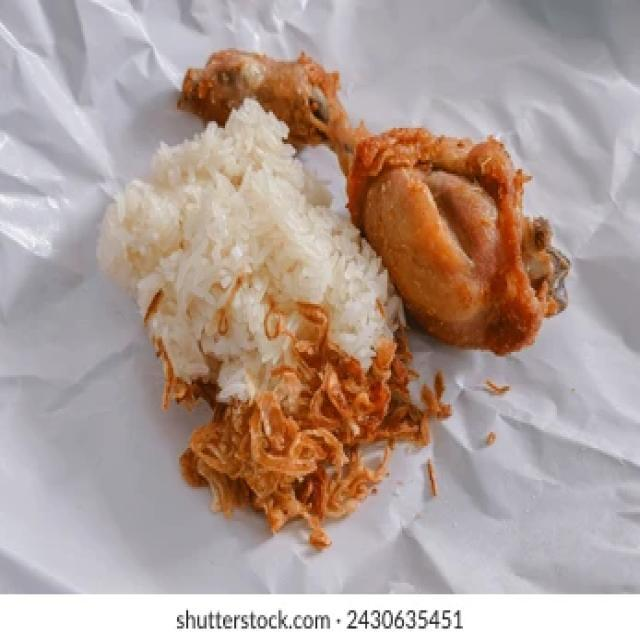thit ga: (185, 29, 574, 355)
xoi: (93, 102, 390, 377)
xoi ga chien: (88, 20, 576, 534)
